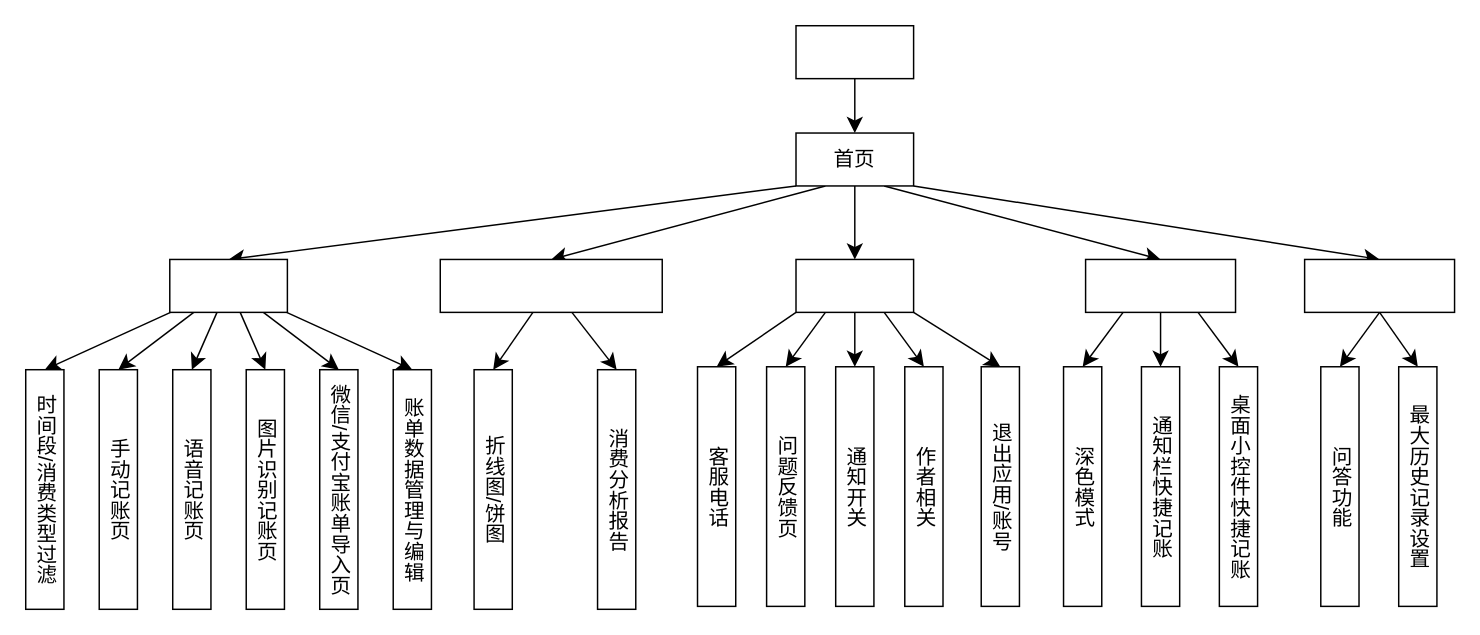
Image size: 1480x635. Some labels were removed from this diagram. Each missing label, with the centre of its shape:
"AI 机器人对话页" goes at point (1379, 285).
"其他功能" goes at point (1160, 285).
"消费数据展示与分析页" goes at point (550, 285).
"登录注册页" goes at point (854, 51).
"记账页" goes at point (227, 285).
"设置页" goes at point (854, 285).
